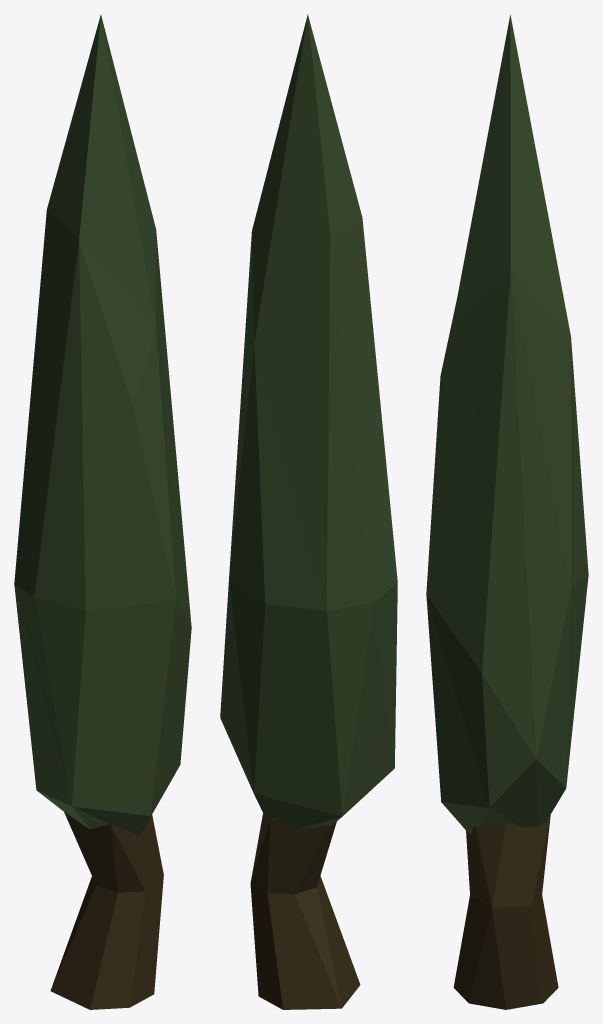
File: tree1.fbx
3 views of the same model, side by side, from view 1: azimuth 30°, elevation 25°; view 2: azimuth 150°, elevation 25°; view 3: azimuth 270°, elevation 25° (orthographic).
Parts seen in each view (by area): view 1: Icosphere; view 2: Icosphere; view 3: Icosphere.
Boxes of the visible parts, x1=… form: Icosphere: x1=14, y1=14, x2=191, y2=1009; Icosphere: x1=220, y1=14, x2=397, y2=1009; Icosphere: x1=426, y1=14, x2=588, y2=1009.
Size of the model in its own units: 148 by 888 by 134.
